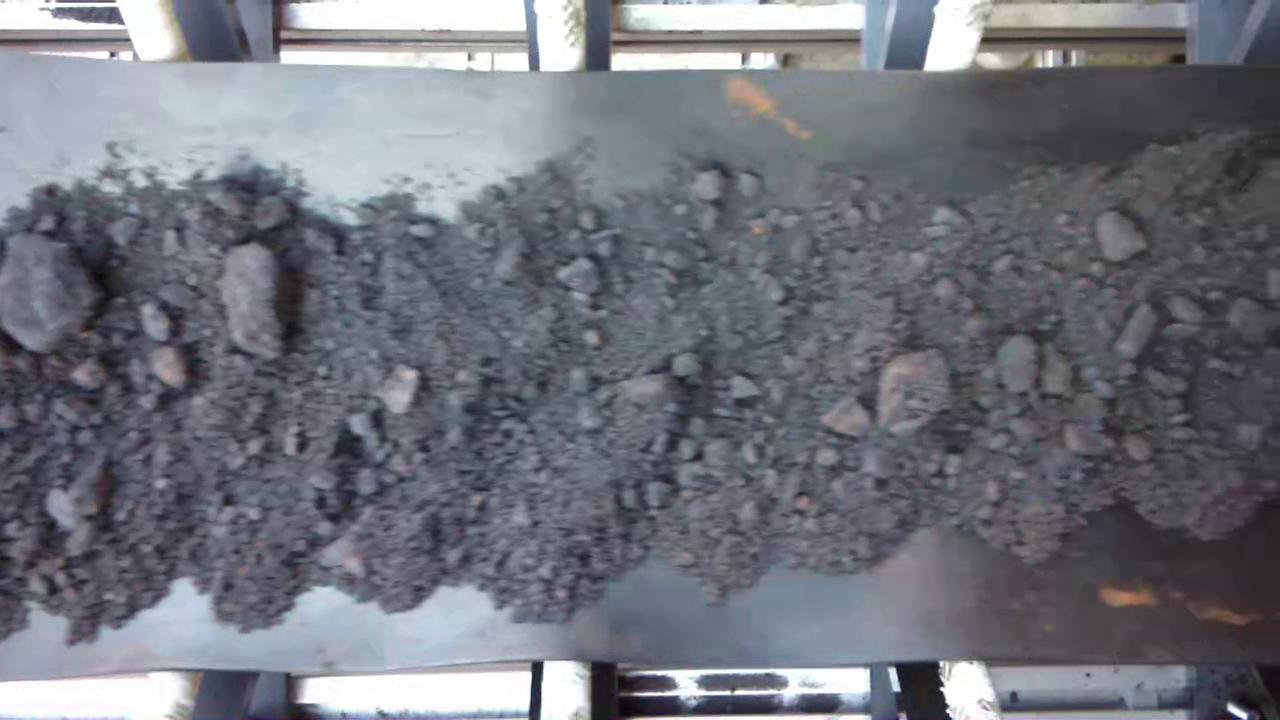conveyor: (6, 69, 1276, 651)
